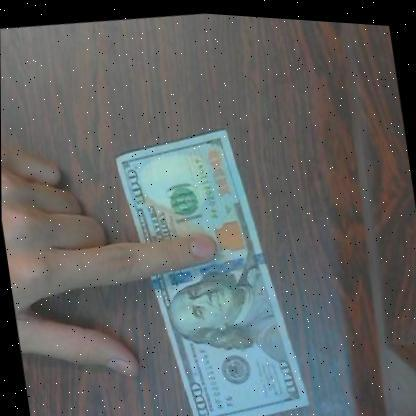one_hundred-front: (106, 107, 312, 416)
